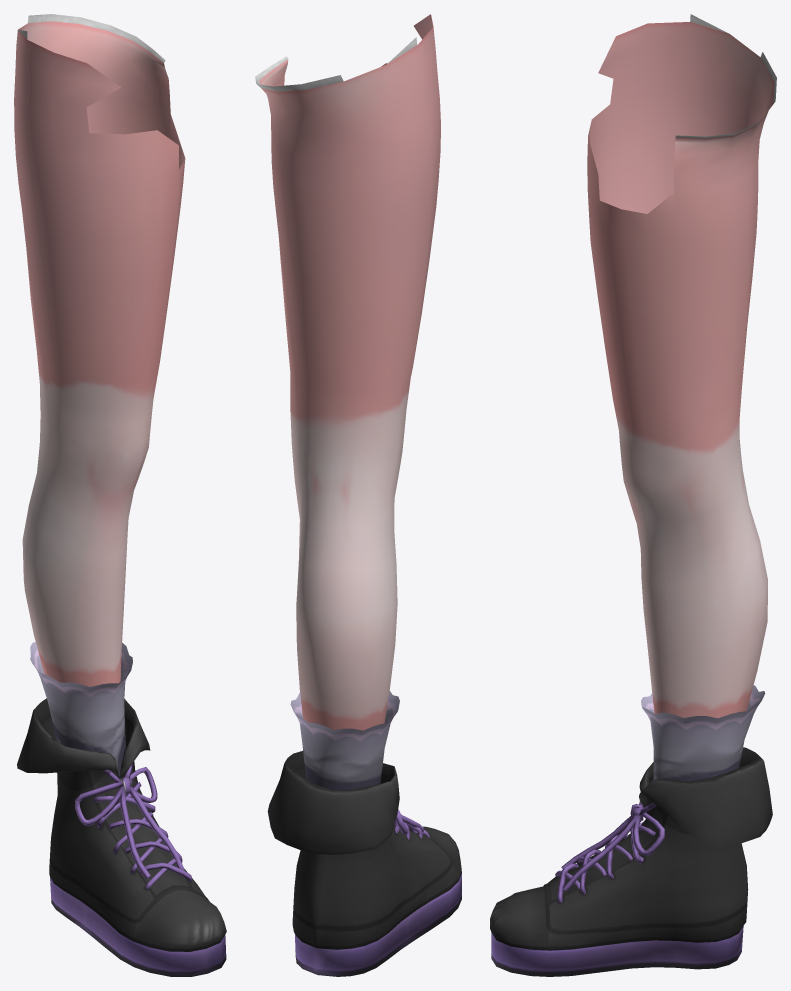
The model's file is leg_R.obj.
3 renders of one model, left to right at view 1: azimuth 30°, elevation 25°; view 2: azimuth 150°, elevation 25°; view 3: azimuth 270°, elevation 25°, orthographic. The views are drawn at different scales.
Parts seen in each view (by area): view 1: leg_R; view 2: leg_R; view 3: leg_R.
Part boxes in pixels (x1,y1,x2,y2): leg_R: (14, 14, 226, 976); leg_R: (255, 14, 461, 976); leg_R: (490, 14, 776, 976).
Size of the model in its own units: 0.1292 by 0.7744 by 0.2228.
Materials: 3 (3 with a texture image).
